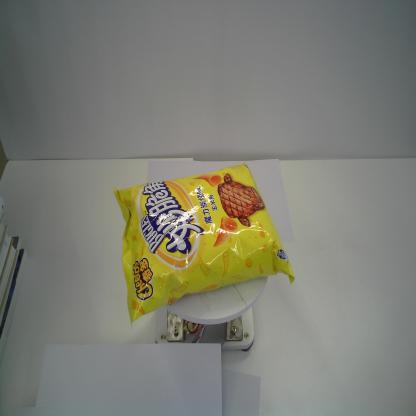Puffed Food: (113, 160, 296, 328)
